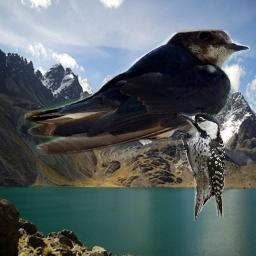Swallow: (24, 29, 250, 155)
Woodpecker: (173, 112, 225, 221)
